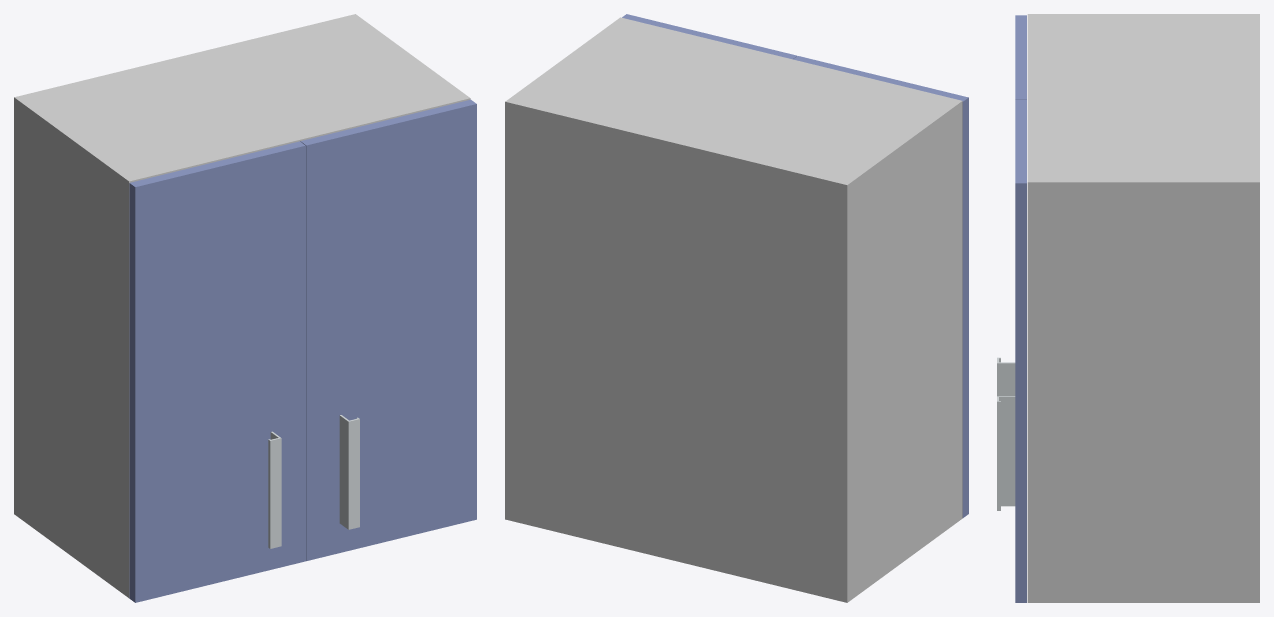
File: duvar_icin.fbx
The picture shows the model from 3 angles, left to right: view 1: azimuth 30°, elevation 25°; view 2: azimuth 150°, elevation 25°; view 3: azimuth 270°, elevation 25°; orthographic projection.
Parts seen in each view (by area): view 1: Cabinet1, Cabinet1_Door_L, Cabinet1_Door_R, Handle.001, Handle; view 2: Cabinet1, Cabinet1_Door_L, Cabinet1_Door_R; view 3: Cabinet1, Cabinet1_Door_R, Handle.001, Cabinet1_Door_L, Handle.
Boxes of the visible parts, x1,y1,x2,y2 form: Cabinet1: (14,14,470,597); Cabinet1_Door_L: (129,141,305,602); Cabinet1_Door_R: (300,99,476,561); Handle.001: (339,415,359,529); Handle: (268,431,281,548); Cabinet1: (505,17,962,602); Cabinet1_Door_L: (793,56,968,517); Cabinet1_Door_R: (622,14,796,59); Cabinet1: (1027,14,1259,602); Cabinet1_Door_R: (1015,99,1026,602); Handle.001: (997,396,1015,510); Cabinet1_Door_L: (1015,15,1026,99); Handle: (997,357,1015,396).
Size of the model in its own units: 60 by 70 by 39.63.
